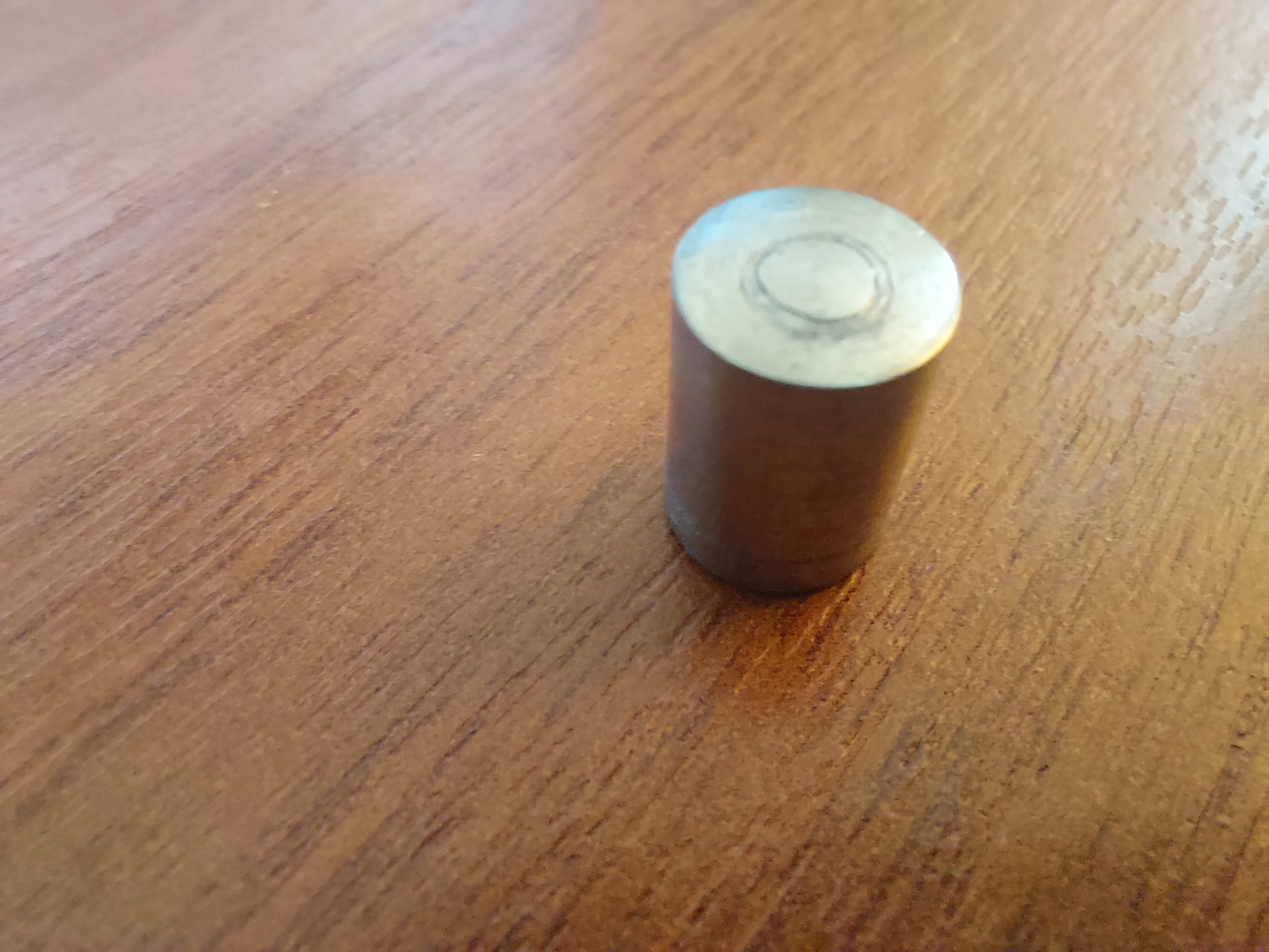tablet: (648, 171, 971, 632)
